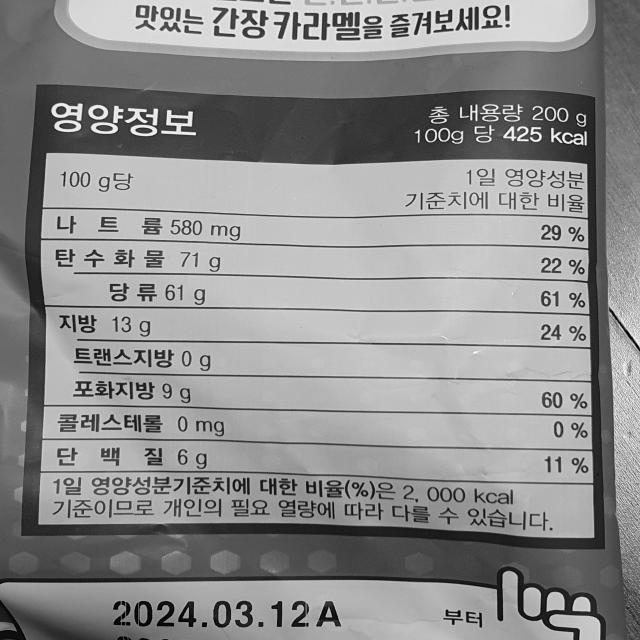Nutrition Label: (11, 75, 619, 556)
